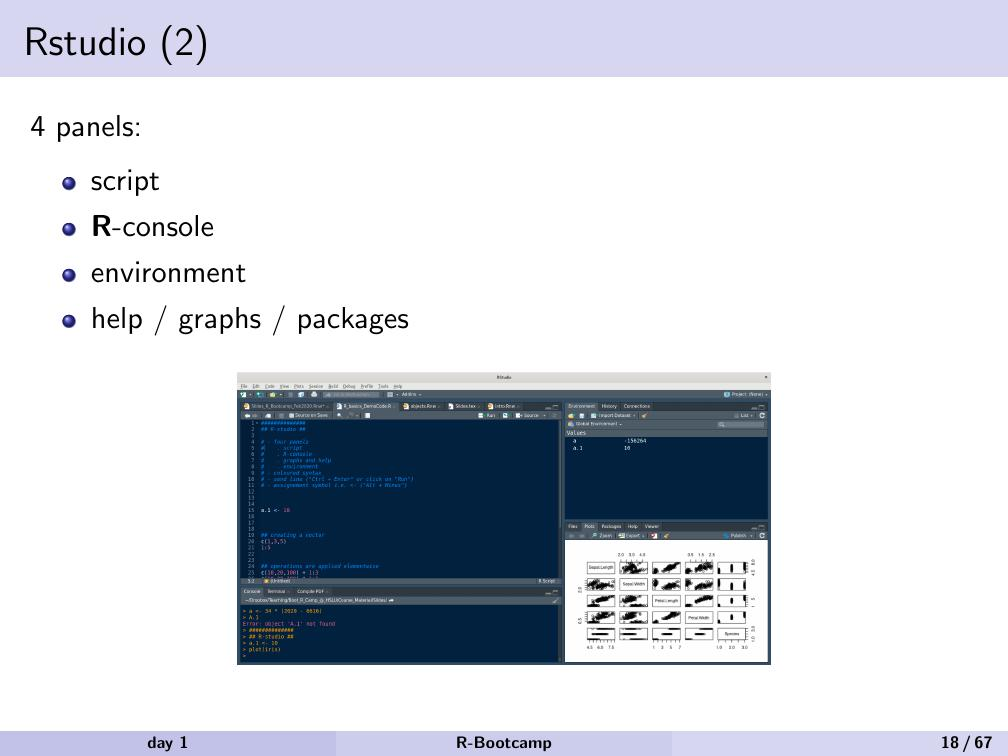Title: (11, 11, 218, 76)
